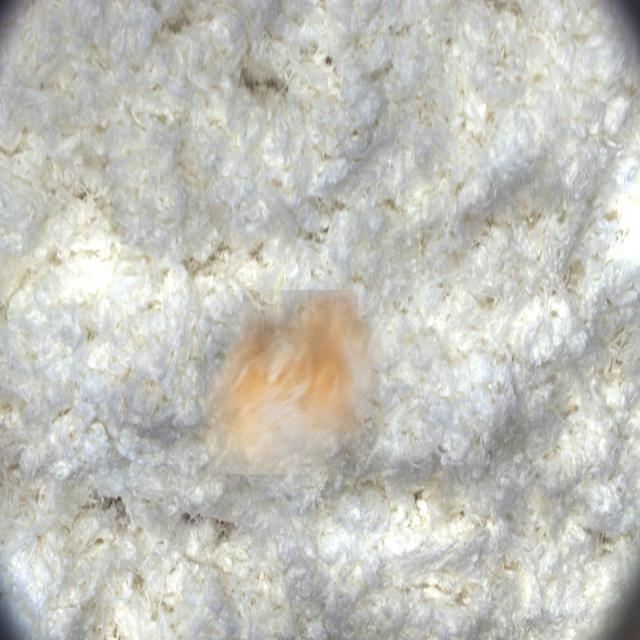dust: (196, 290, 381, 475)
